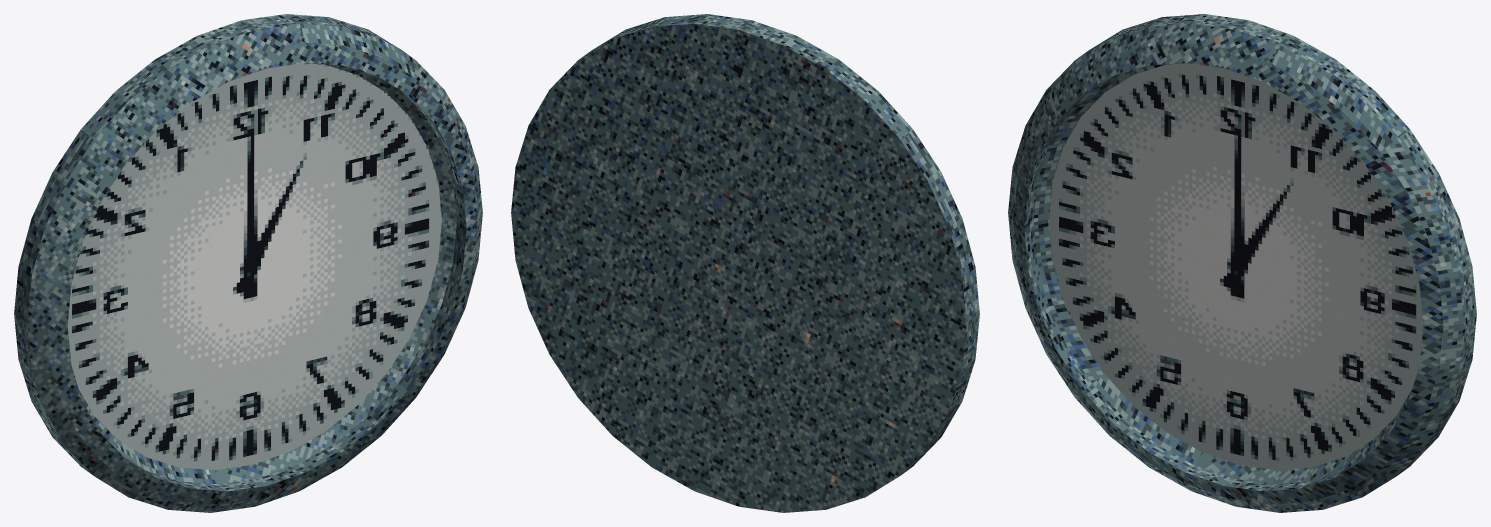
File: wall_clock.glb
3 renders of one model, left to right at view 1: azimuth 30°, elevation 25°; view 2: azimuth 150°, elevation 25°; view 3: azimuth 330°, elevation 25°, orthographic.
Parts seen in each view (by area): view 1: WallClock; view 2: WallClock; view 3: WallClock.
Boxes of the visible parts, left/top/right/bottom form: WallClock: left=14, top=14, right=482, bottom=512; WallClock: left=511, top=14, right=979, bottom=512; WallClock: left=1008, top=14, right=1476, bottom=512.
Bounding box in the file's own units: 2 × 2 × 0.1923.
2 materials, 2 textured.
